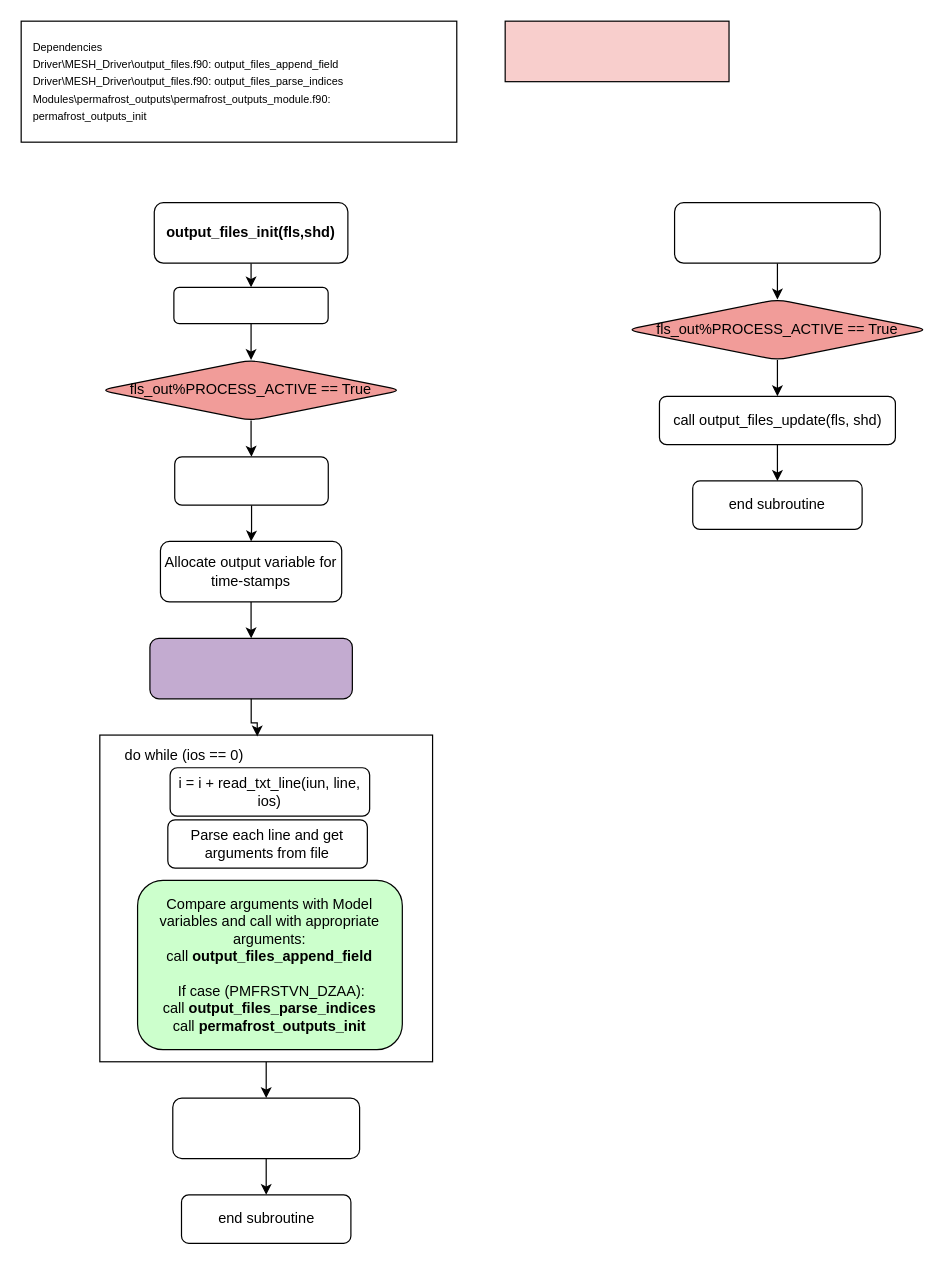
Some shapes in this 950 by 1264 pixel diagram are drawn without their labels. Each missing label, with the centre of its shape:
"call GET_DATES(ts)" belongs at point (251, 480).
"Initialize variables" belongs at point (250, 305).
"Open input file and reads file: outputs_balance.txt" belongs at point (250, 668).
"output_files.f90" belongs at point (616, 51).
"output_files_finalize(fls,shd)" belongs at point (776, 232).
"Print the number of active fields (Output variables)" belongs at point (266, 1128).
